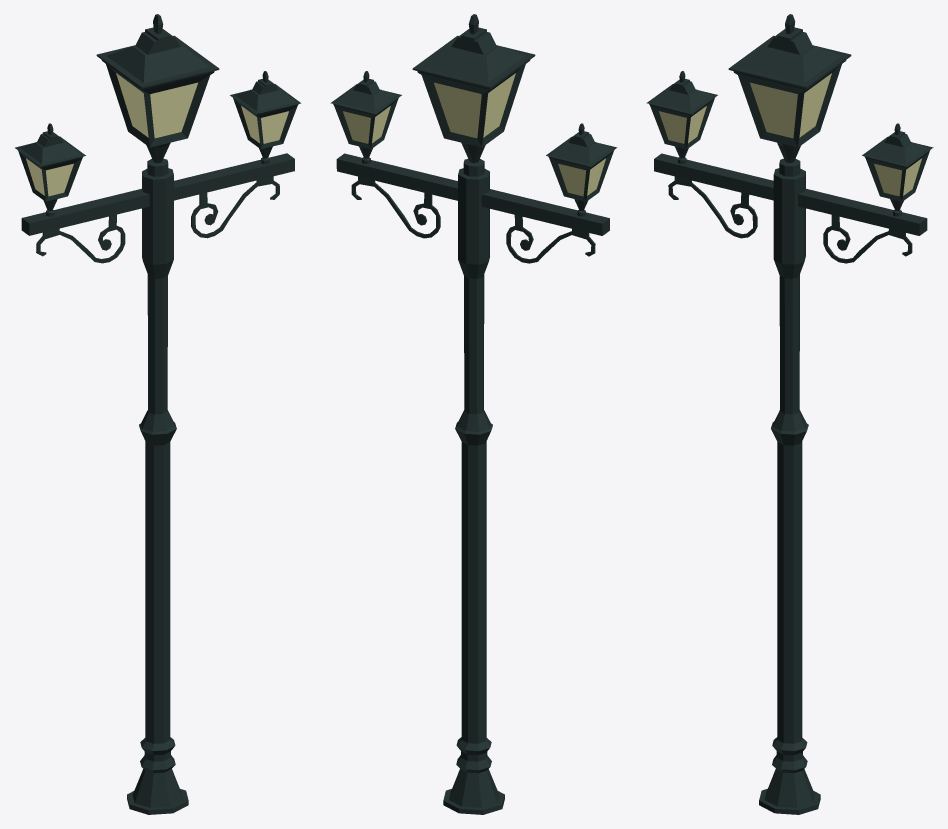
The model's file is Lamp_3.fbx.
3 renders of one model, left to right at view 1: azimuth 30°, elevation 25°; view 2: azimuth 150°, elevation 25°; view 3: azimuth 330°, elevation 25°, orthographic.
Parts seen in each view (by area): view 1: Lamp_3; view 2: Lamp_3; view 3: Lamp_3.
Boxes of the visible parts, box(x1,y1,x2,y2) form: Lamp_3: box(15, 14, 300, 814); Lamp_3: box(330, 14, 617, 814); Lamp_3: box(646, 14, 933, 814).
Size of the model in its own units: 120 by 340 by 35.15.
